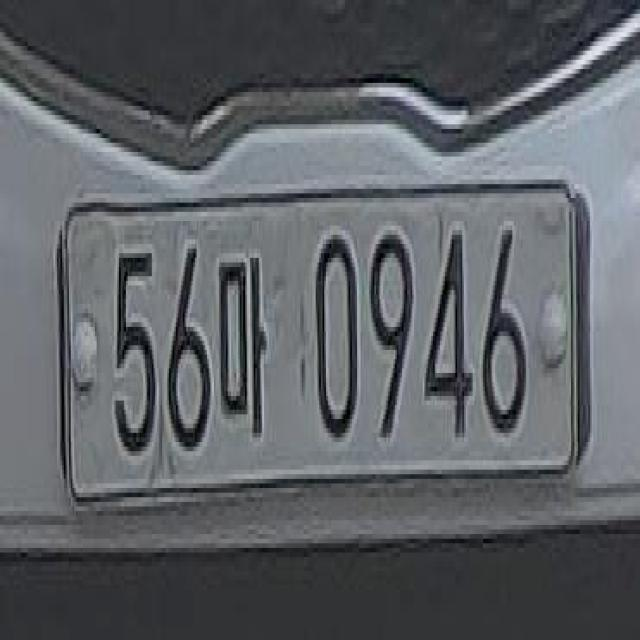illegal_plate: (60, 164, 584, 520)
